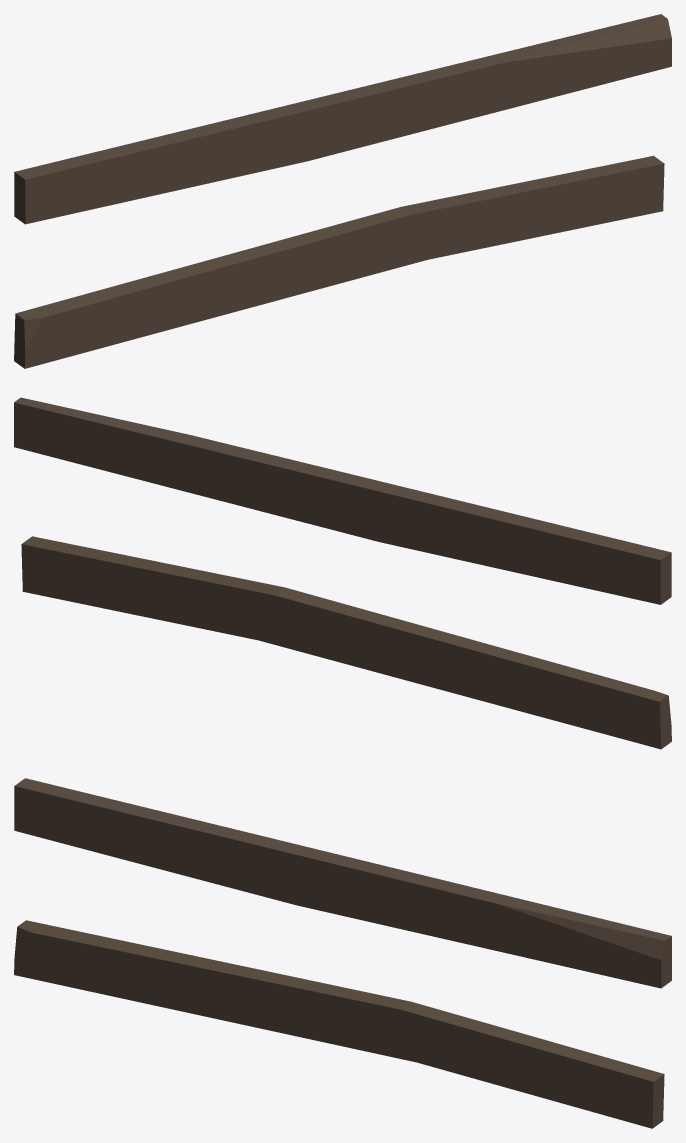
The model's file is SM_Props_Farm_Fence_Square_T1_Rail.fbx.
The picture shows the model from 3 angles, top to bottom: view 1: azimuth 30°, elevation 25°; view 2: azimuth 150°, elevation 25°; view 3: azimuth 330°, elevation 25°; orthographic projection.
Parts seen in each view (by area): view 1: SM_Props_Farm_Fence_Square_T1_Rail; view 2: SM_Props_Farm_Fence_Square_T1_Rail; view 3: SM_Props_Farm_Fence_Square_T1_Rail.
Part boxes in pixels (x1,y1,x2,y2): SM_Props_Farm_Fence_Square_T1_Rail: (14, 14, 671, 368); SM_Props_Farm_Fence_Square_T1_Rail: (14, 397, 671, 749); SM_Props_Farm_Fence_Square_T1_Rail: (14, 778, 671, 1128).
Size of the model in its own units: 200 by 55.85 by 5.77.
